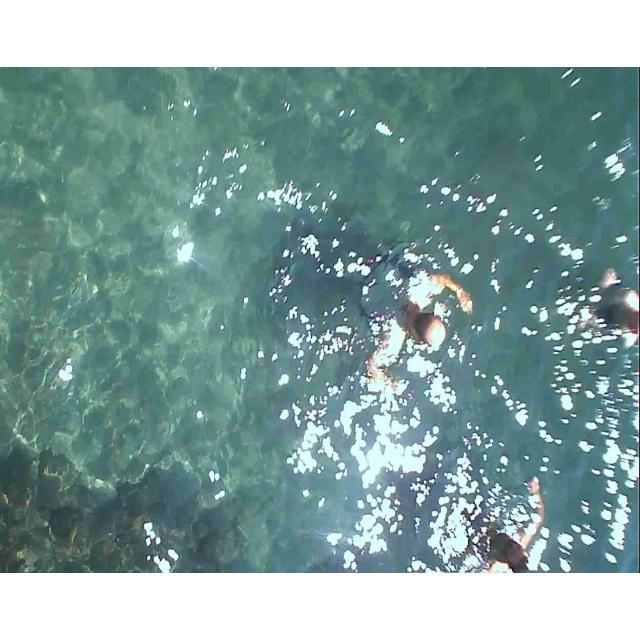human: (365, 250, 460, 397), (598, 256, 638, 350)
